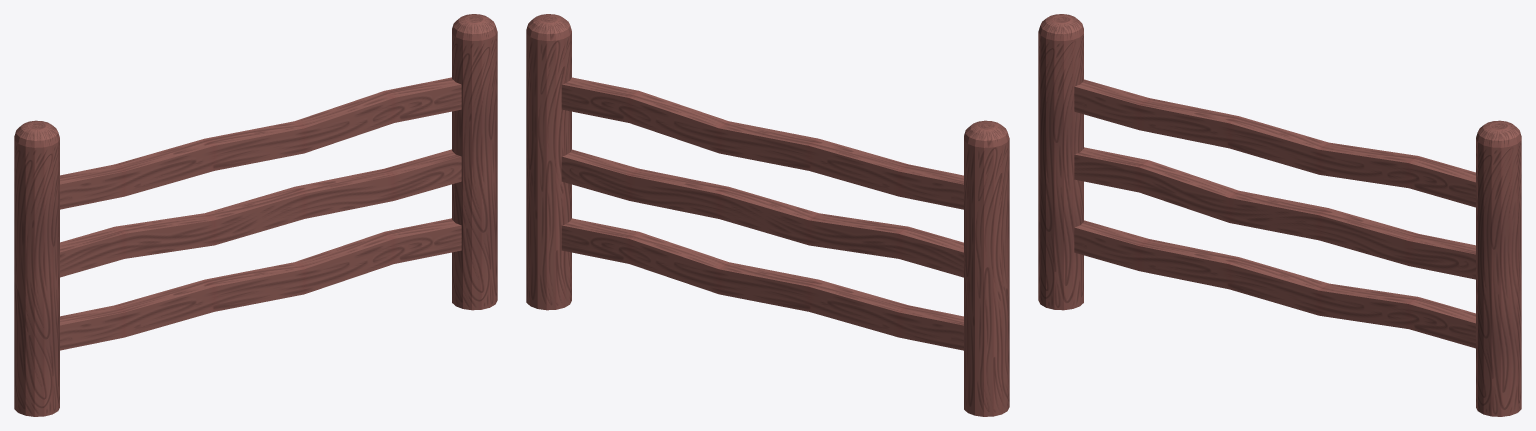
Rendered from Fence.fbx.
3 renders of one model, left to right at view 1: azimuth 30°, elevation 25°; view 2: azimuth 150°, elevation 25°; view 3: azimuth 330°, elevation 25°, orthographic.
Visible parts, largest first — view 1: Fence; view 2: Fence; view 3: Fence.
Part boxes in pixels (bbox=[...]): Fence: bbox=[14, 14, 497, 416]; Fence: bbox=[526, 14, 1009, 416]; Fence: bbox=[1038, 14, 1521, 416].
Bounding box in the file's own units: 177 × 100 × 14.7.
